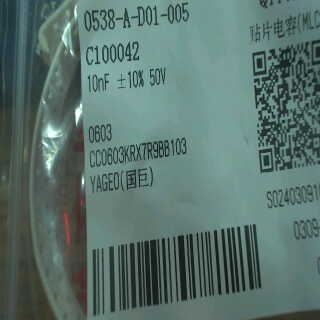10nF: (86, 70, 112, 96)
